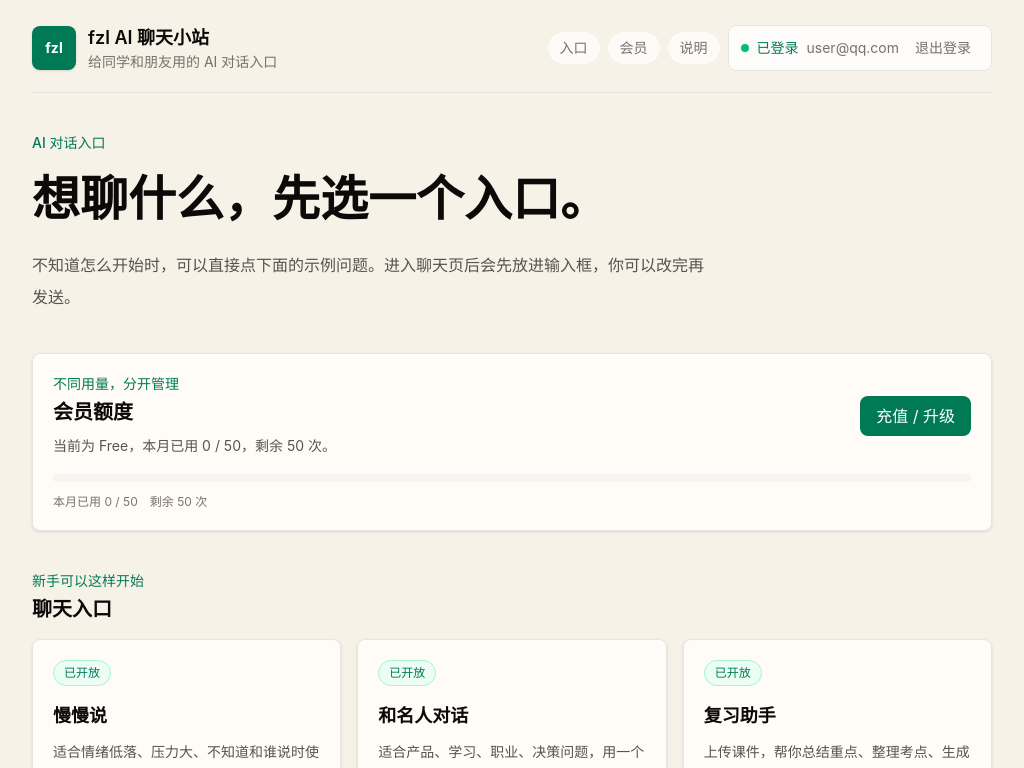
Scenario: home page › logs out and returns to the login form
Expected: the heading "聊天入口" is shown, x1=32 y1=597 x2=112 y2=621
Step 1. Click the button "退出登录" → (943, 48), box x1=907 y1=34 x2=979 y2=62
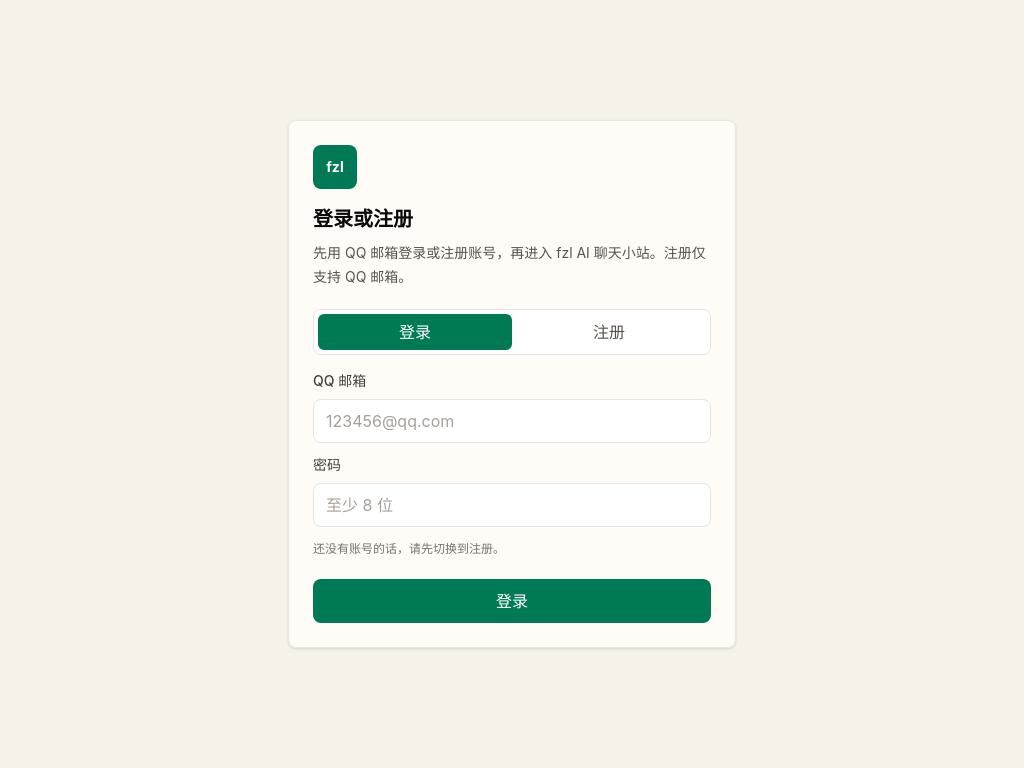
Now the heading "登录或注册" is shown, box x1=313 y1=207 x2=413 y2=231
Now the heading "聊天入口" is gone
